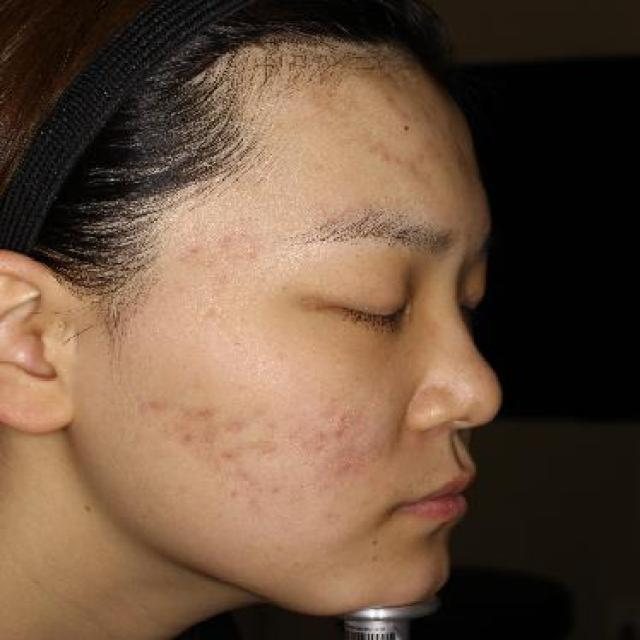dark spot: (325, 420, 358, 443), (221, 417, 250, 437), (176, 426, 202, 448), (218, 446, 242, 465)
